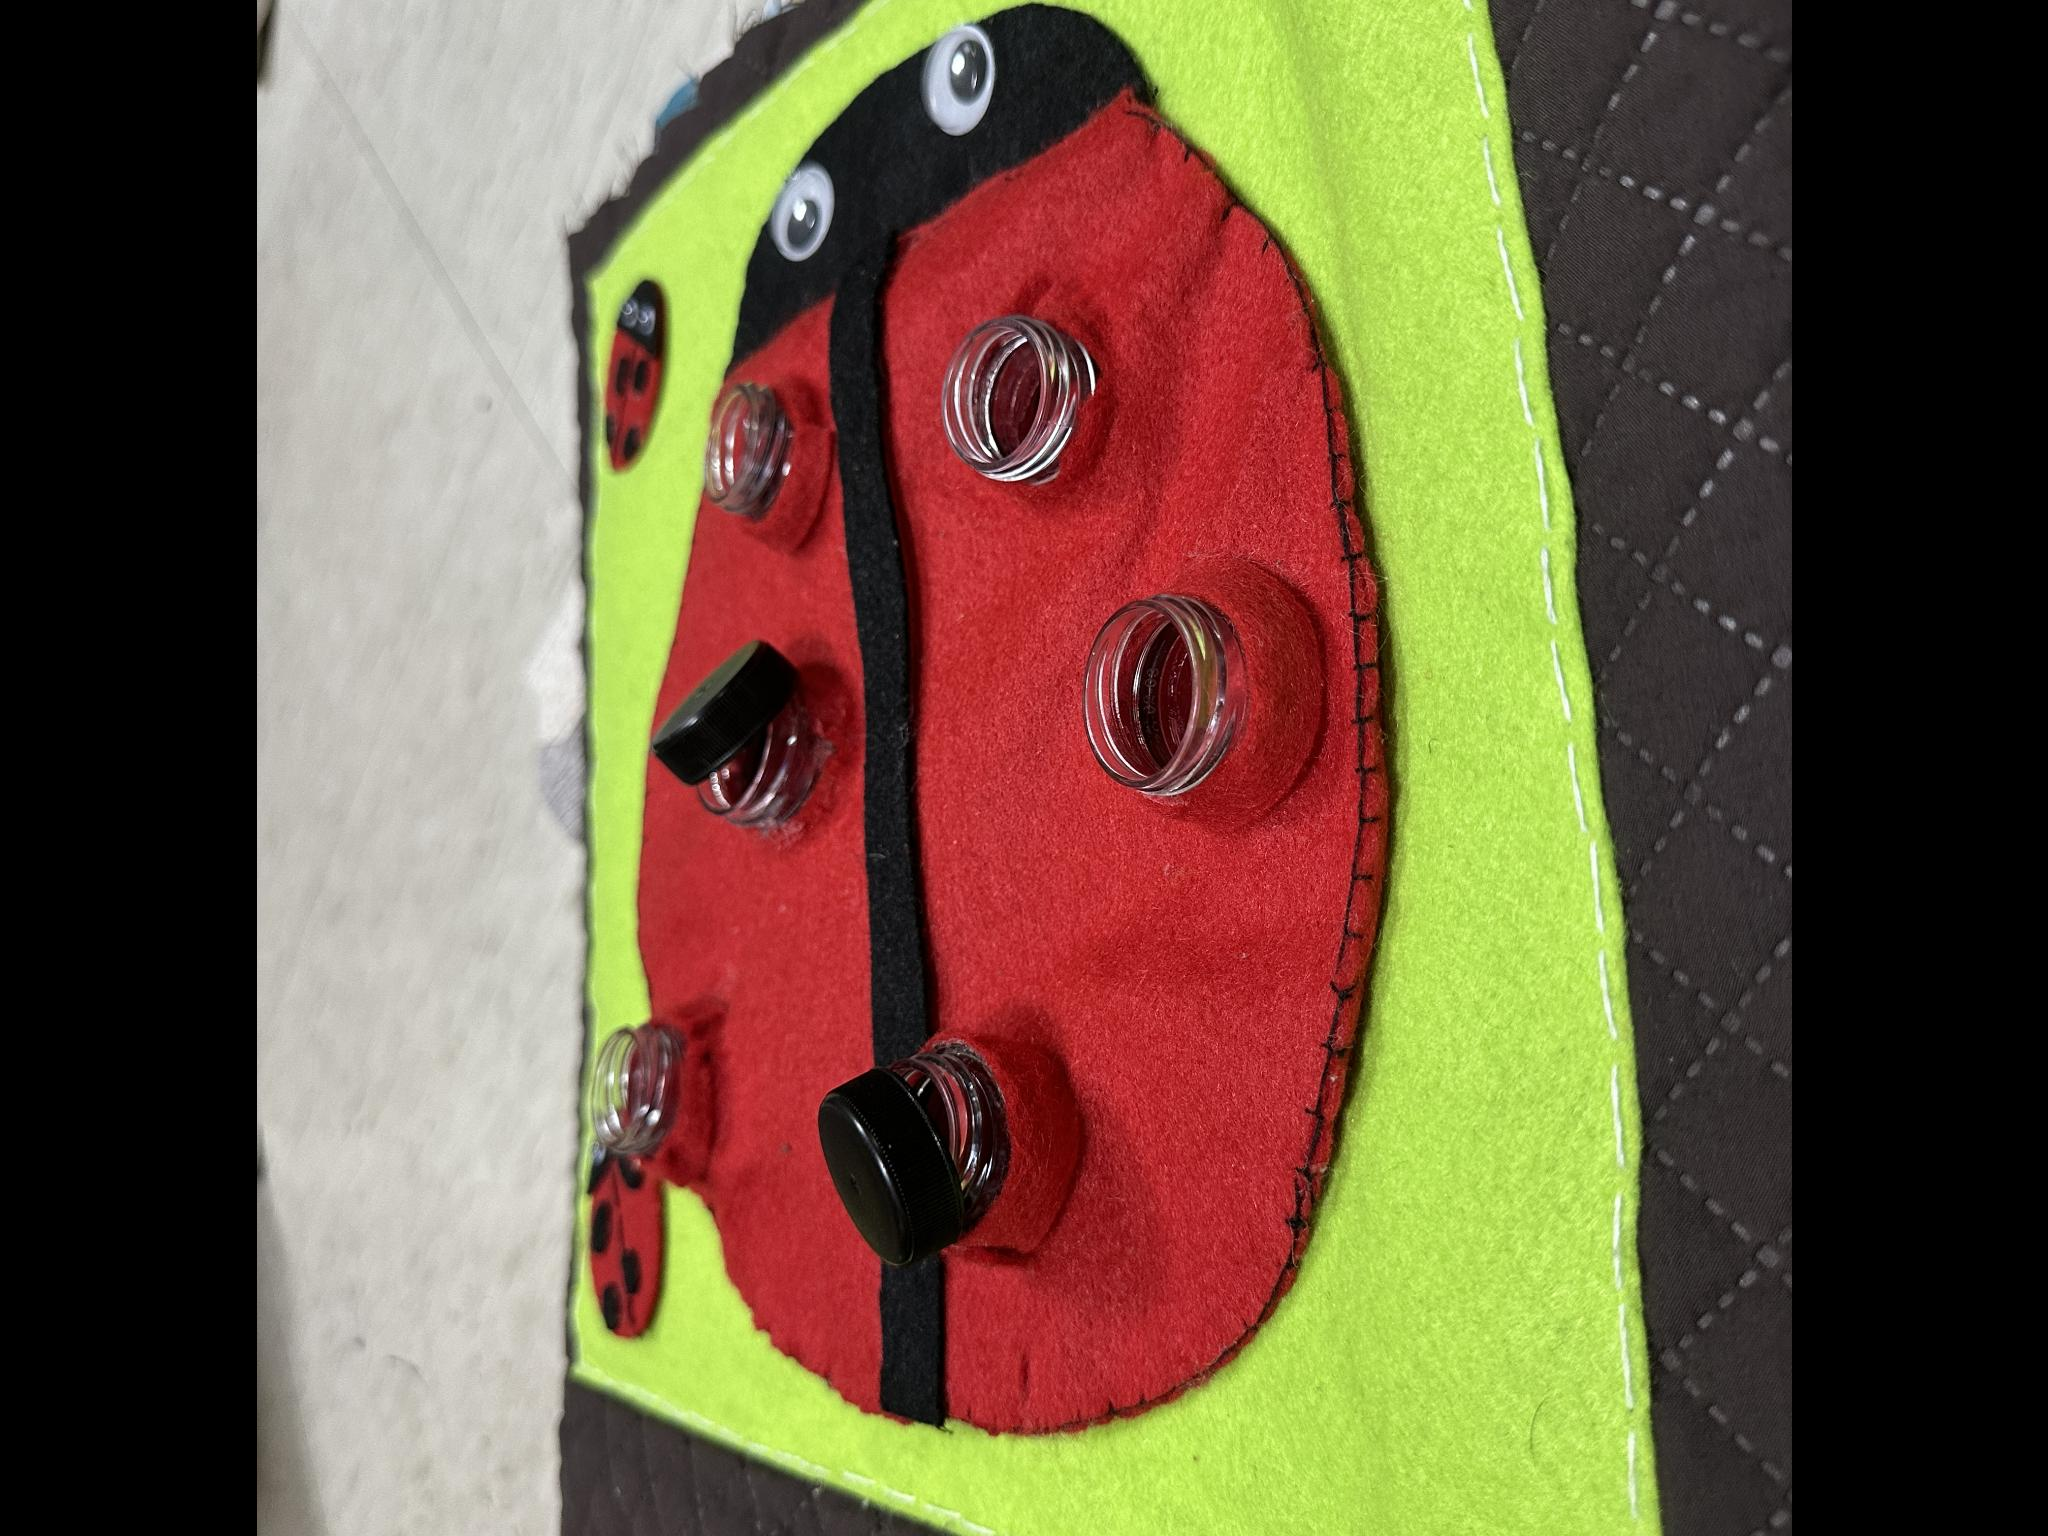cap_ng: (785, 991, 1095, 1281), (653, 628, 848, 865)
